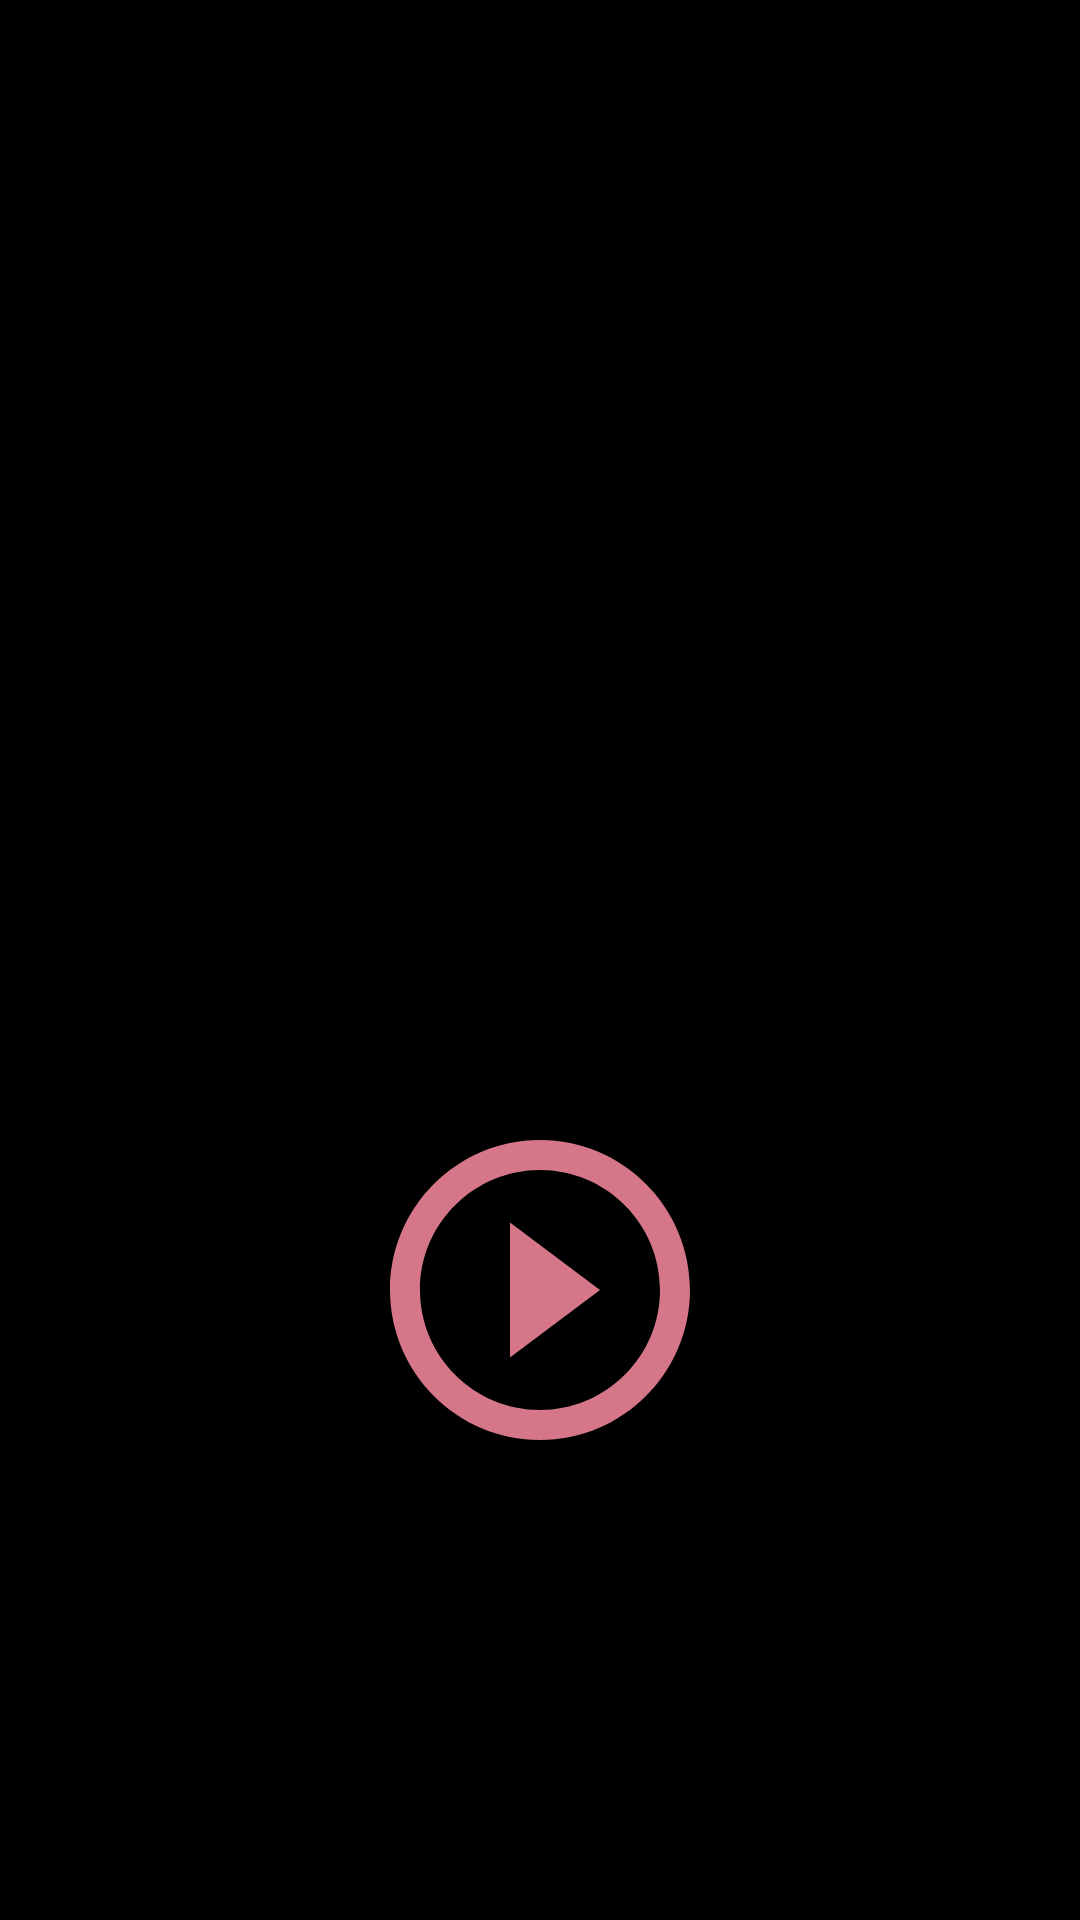

Where icons sit on this 1080x1920 app screen, as [x1, y1, x2, y2]:
play circle: [390, 1140, 690, 1440]
